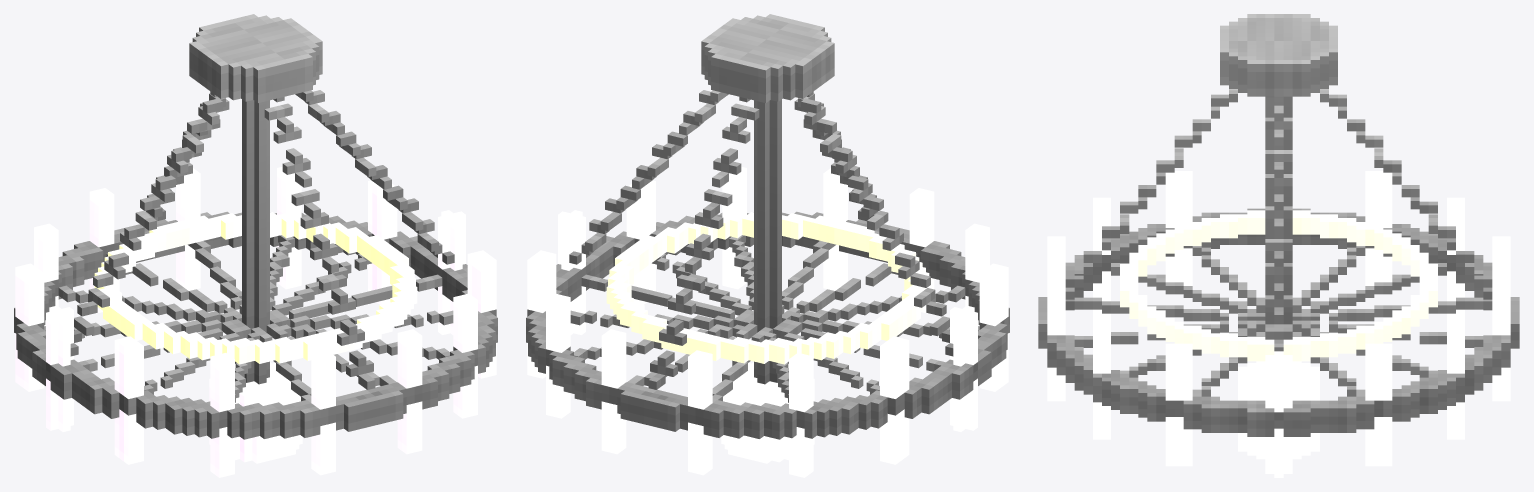
The model's file is reliquary_chandelier_astrolabe.glb.
3 views of the same model, side by side, from view 1: azimuth 30°, elevation 25°; view 2: azimuth 150°, elevation 25°; view 3: azimuth 270°, elevation 25° (orthographic).
Parts seen in each view (by area): view 1: reliquary_chandelier_astrolabe; view 2: reliquary_chandelier_astrolabe; view 3: reliquary_chandelier_astrolabe.
Part boxes in pixels (box(x1,y1,x2,y2)): reliquary_chandelier_astrolabe: box(14, 14, 497, 477); reliquary_chandelier_astrolabe: box(526, 14, 1009, 477); reliquary_chandelier_astrolabe: box(1038, 14, 1519, 477).
Bounding box in the file's own units: 1.86 × 1.75 × 1.86.
